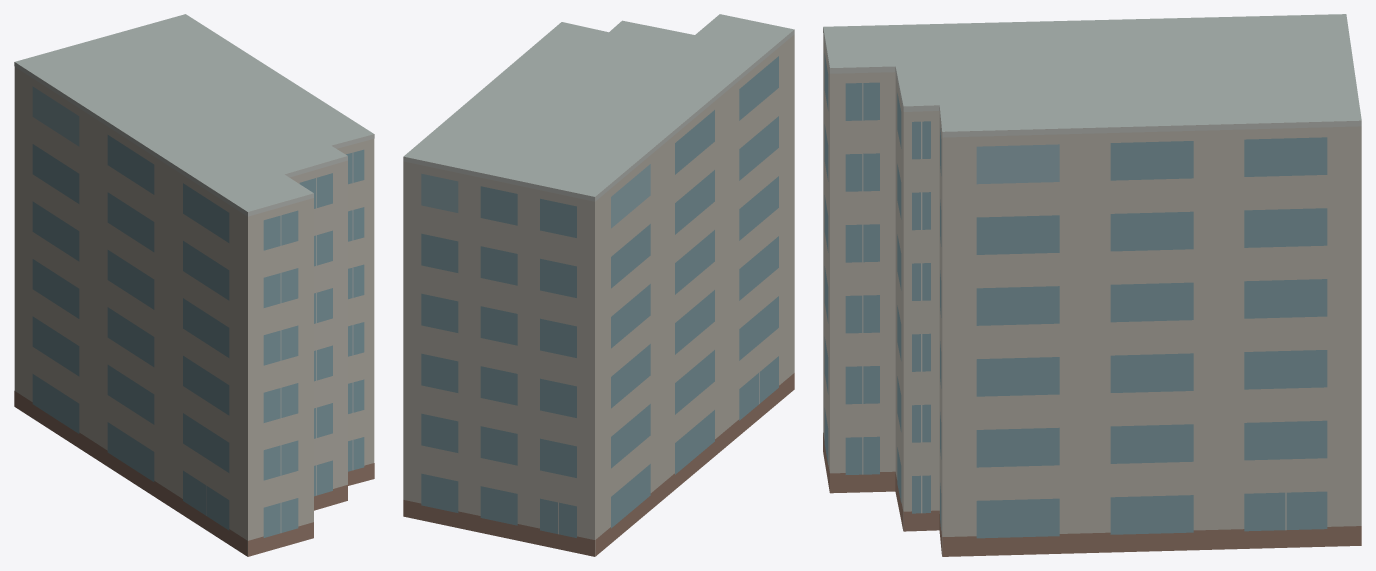
File: survey-upis-32699707.glb
The picture shows the model from 3 angles, left to right: view 1: azimuth 30°, elevation 25°; view 2: azimuth 150°, elevation 25°; view 3: azimuth 270°, elevation 25°; orthographic projection. The views are drawn at different scales.
Visible parts, largest first — view 1: survey-upis-32699707.tmp; view 2: survey-upis-32699707.tmp; view 3: survey-upis-32699707.tmp.
Boxes of the visible parts, x1,y1,x2,y2 form: survey-upis-32699707.tmp: (14,14,374,556); survey-upis-32699707.tmp: (403,14,794,556); survey-upis-32699707.tmp: (823,14,1361,556).
Size of the model in its own units: 10.9 by 18.31 by 21.04.
